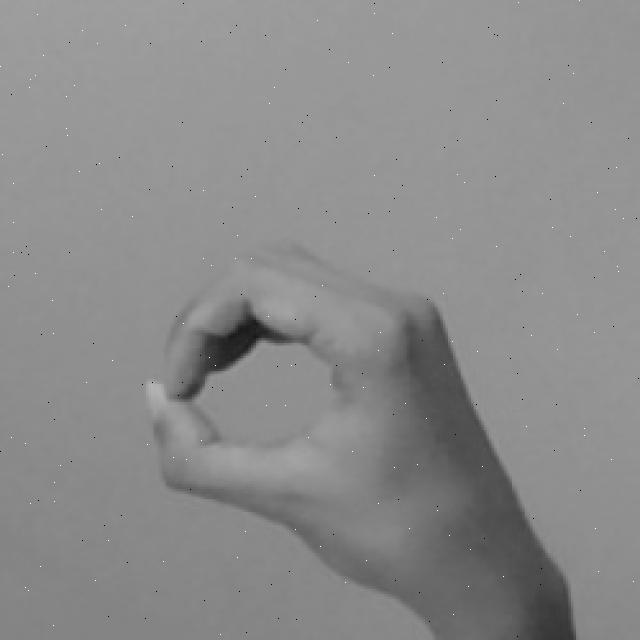O: (139, 228, 591, 640)
